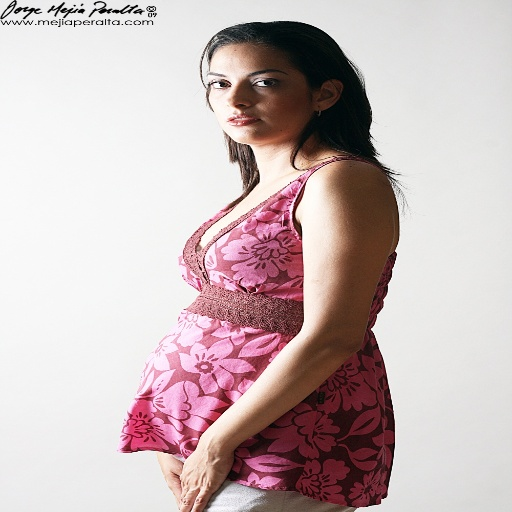hand: (174, 439, 235, 504), (156, 453, 184, 504)
